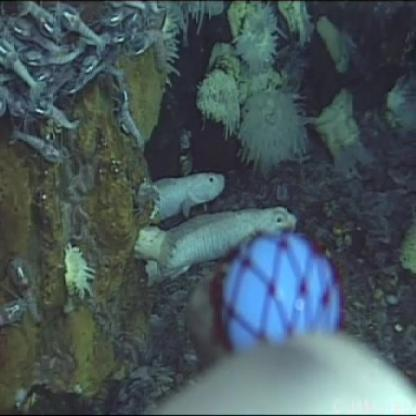Bio: (1, 1, 151, 161), (149, 200, 300, 278), (236, 82, 326, 177), (138, 168, 229, 220)
